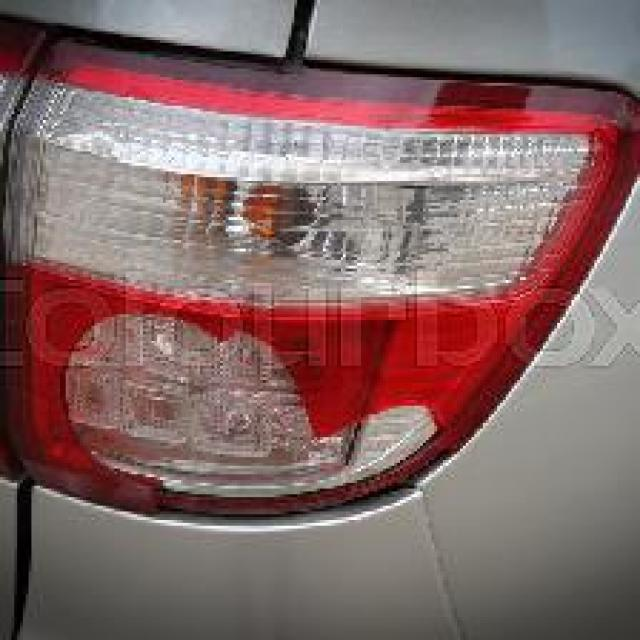tail_lamp_minor: (9, 51, 494, 497)
